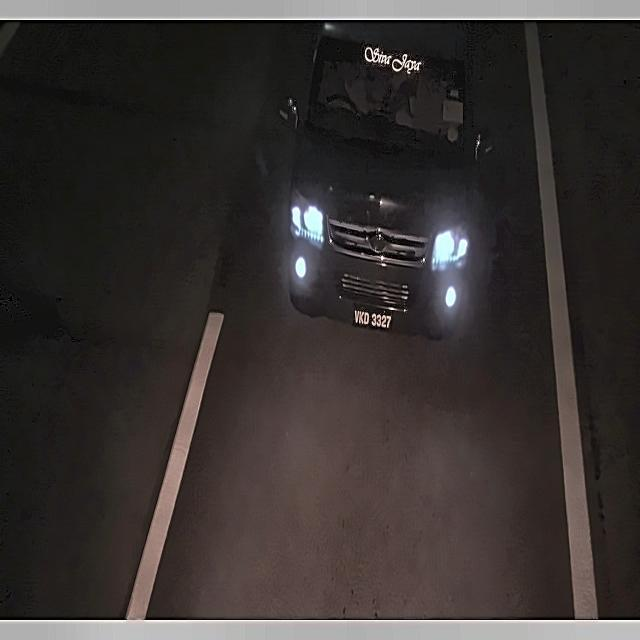car: (348, 301, 398, 335)
